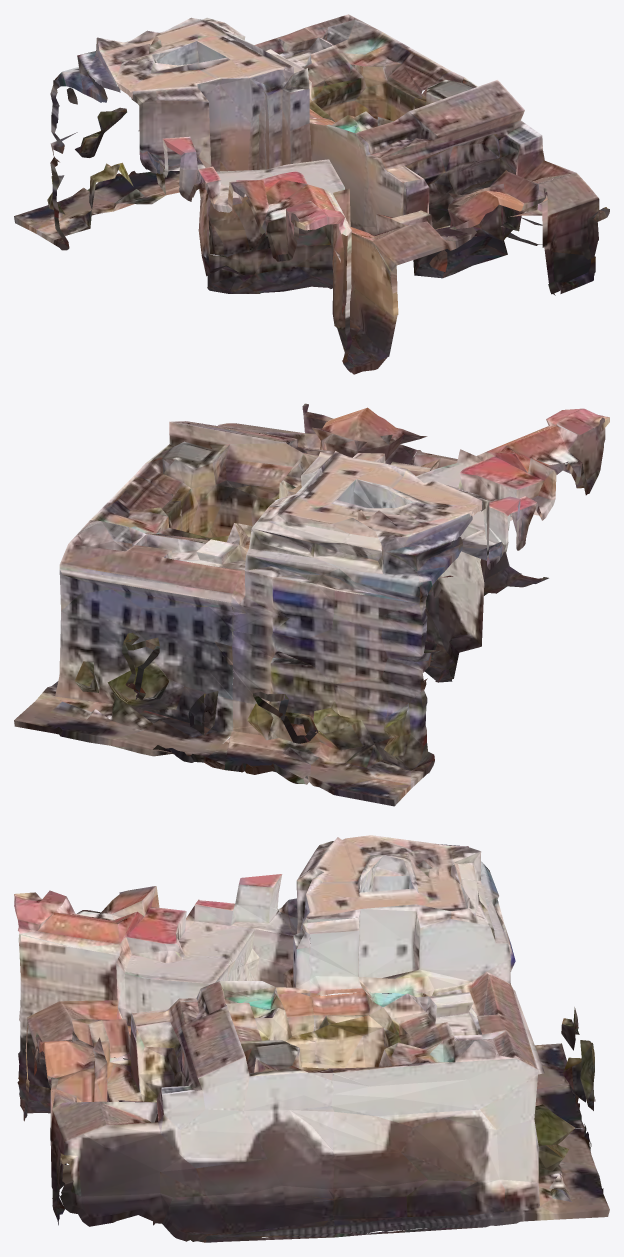
The picture shows the model from 3 angles, top to bottom: view 1: azimuth 30°, elevation 25°; view 2: azimuth 150°, elevation 25°; view 3: azimuth 270°, elevation 25°; orthographic projection. The views are drawn at different scales.
Visible parts, largest first — view 1: Mesh_0; view 2: Mesh_0; view 3: Mesh_0.
Part boxes in pixels (x1,y1,x2,y2): Mesh_0: (14, 14, 609, 374); Mesh_0: (14, 403, 609, 806); Mesh_0: (14, 835, 609, 1242).
Bounding box in the file's own units: 67.18 × 35.76 × 82.44.
Materials: 1 (1 with a texture image).
